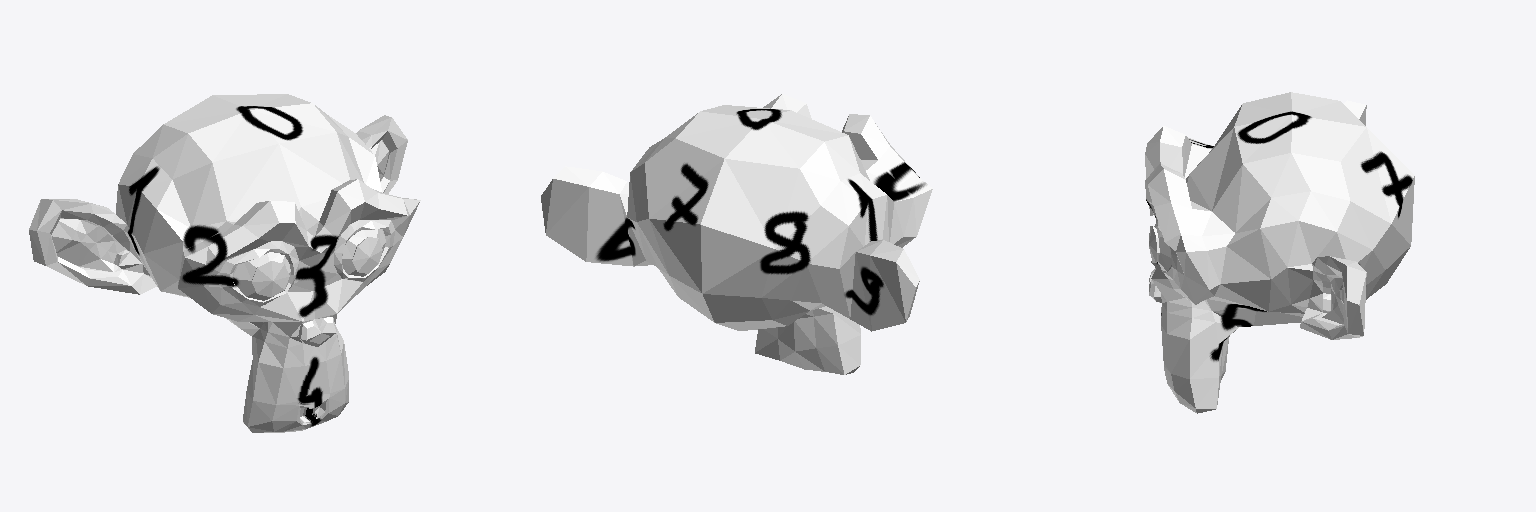
3 views of the same model, side by side, from view 1: azimuth 30°, elevation 25°; view 2: azimuth 150°, elevation 25°; view 3: azimuth 270°, elevation 25° (orthographic).
Visible parts, largest first — view 1: Suzanne; view 2: Suzanne; view 3: Suzanne.
Boxes of the visible parts, x1,y1,x2,y2 form: Suzanne: [29, 94, 420, 432]; Suzanne: [541, 94, 932, 374]; Suzanne: [1145, 92, 1414, 413].
Bounding box in the file's own units: 2.73 × 1.97 × 1.7.
Materials: 1 (1 with a texture image).